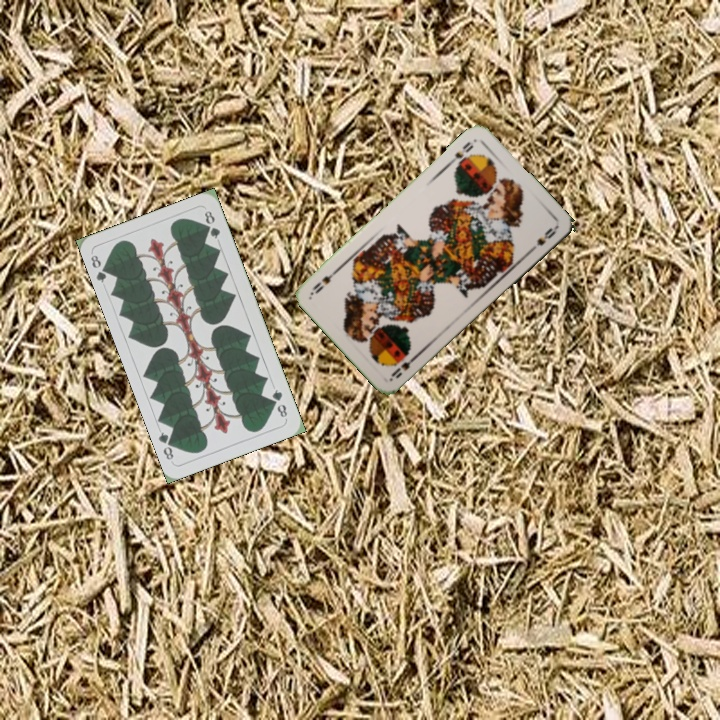G8: (86, 251, 113, 285), (268, 385, 290, 420)
SO: (387, 350, 420, 382), (445, 137, 476, 167)
